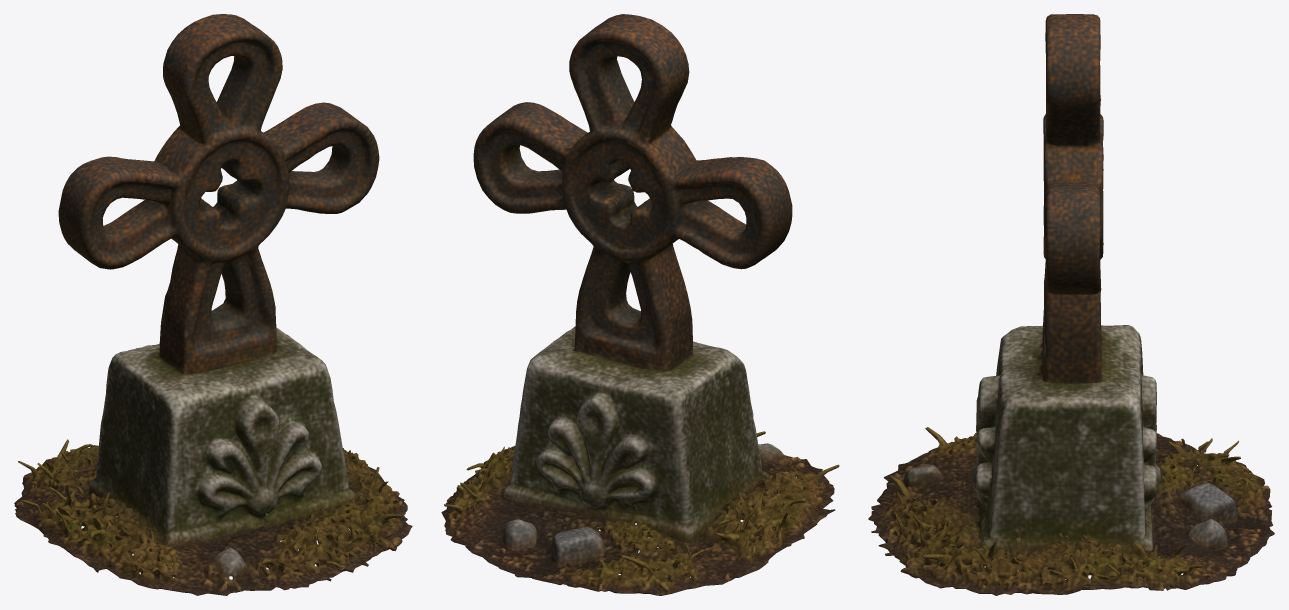
Rendered from grave_14_rusted_iron_cross.glb.
3 renders of one model, left to right at view 1: azimuth 30°, elevation 25°; view 2: azimuth 150°, elevation 25°; view 3: azimuth 270°, elevation 25°, orthographic. The views are drawn at different scales.
Visible parts, largest first — view 1: world; view 2: world; view 3: world.
Part boxes in pixels (left/top/right/bottom): world: left=14, top=14, right=412, bottom=595; world: left=441, top=14, right=839, bottom=595; world: left=868, top=14, right=1274, bottom=595.
Size of the model in its own units: 0.693 by 1 by 0.7261.
1 material, 1 textured.
